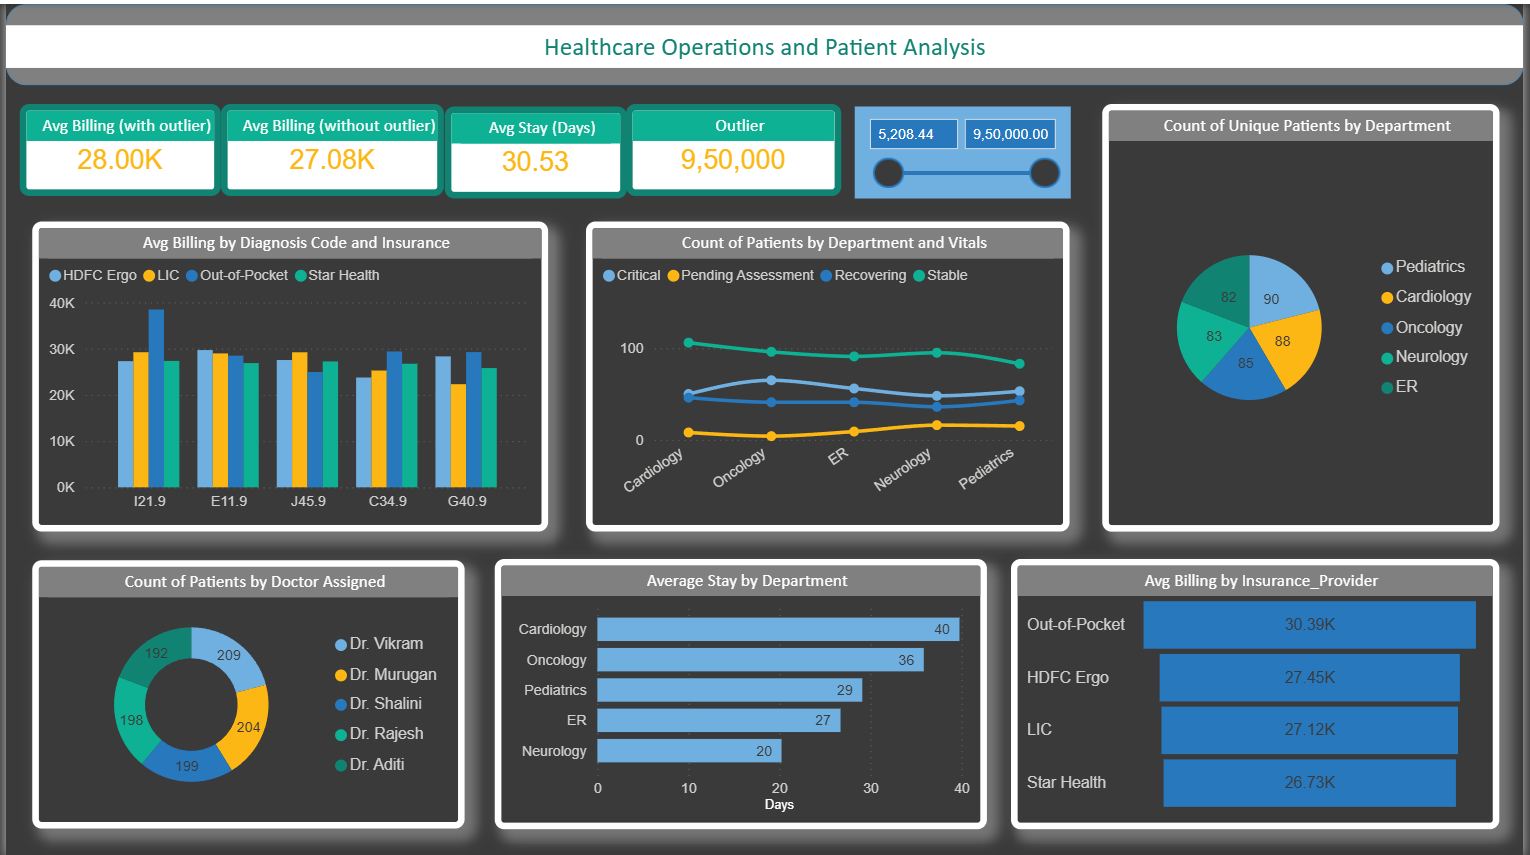

The dashboard page shown, as its layout file describes it:
{"tool":"powerbi","page":{"name":"Page 1","canvas":[1280,720],"ordinal":0},"visuals":[{"type":"clusteredColumnChart","title":"Avg Billing by Diagnosis Code and Insurance","fields":{"Category":["Cleaned Healthcare Analysis.Diagnosis_Code"],"Y":["Cleaned Healthcare Analysis.Avg Billing Amount"],"Series":["Cleaned Healthcare Analysis.Insurance_Provider"]},"box":[22.1,183.7,434.9,261.6],"z":0},{"type":"funnel","title":"Avg Billing by Insurance_Provider","fields":{"Category":["Cleaned Healthcare Analysis.Insurance_Provider"],"Y":["Cleaned Healthcare Analysis.Avg Billing Amount"]},"box":[847.7,468.6,411.6,227.9],"z":1000},{"type":"clusteredBarChart","title":"Average Stay by Department","fields":{"Category":["Cleaned Healthcare Analysis.Department"],"Y":["Cleaned Healthcare Analysis.Avg Stay"]},"box":[412.8,468.6,415.1,227.9],"z":2000},{"type":"lineChart","title":"Count of Patients by Department and Vitals","fields":{"Category":["Cleaned Healthcare Analysis.Department"],"Y":["CountNonNull(Cleaned Healthcare Analysis.Patient_Id)"],"Series":["Cleaned Healthcare Analysis.Vitals_Status"]},"box":[489.5,183.7,408.1,261.6],"z":3000},{"type":"pieChart","title":"Count of Unique Patients by Department","fields":{"Category":["Cleaned Healthcare Analysis.Department"],"Y":["Count(Cleaned Healthcare Analysis.Patient_Id)"]},"box":[924.4,84.9,334.9,360.5],"z":4000},{"type":"donutChart","title":"Count of Patients by Doctor Assigned","fields":{"Category":["Cleaned Healthcare Analysis.Doctor_Assigned"],"Y":["CountNonNull(Cleaned Healthcare Analysis.Patient_Id)"]},"box":[22.1,469.8,365.1,226.7],"z":5000},{"type":"shape","title":"Heal","box":[0,0,1280.2,68.6],"z":6000},{"type":"textbox","box":[0,17.4,1280.2,36],"z":7000},{"type":"card","title":"Avg Billing (with outlier)","fields":{"Values":["Cleaned Healthcare Analysis.Avg Billing Amount"]},"box":[11.6,84.9,169.8,77.9],"z":8000},{"type":"card","title":"Avg Stay (Days)","fields":{"Values":["Cleaned Healthcare Analysis.Avg Stay"]},"box":[369.8,86,153.5,77.9],"z":9000},{"type":"card","title":"Avg Billing (without outlier)","fields":{"Values":["Cleaned Healthcare Analysis.Avg Billing Amount"]},"box":[181.4,84.9,188.4,77.9],"z":10000},{"type":"slicer","fields":{"Values":["Cleaned Healthcare Analysis.Billing_Amount"]},"box":[716.3,86,181.4,76.7],"z":11000},{"type":"card","title":"Outlier","fields":{"Values":["Max(Cleaned Healthcare Analysis.Billing_Amount)"]},"box":[523.3,84.9,181.4,77.9],"z":12000}]}

Visuals, with their boxes in screenshot pixels (x1, y1, x2, y2), scaled from the page's 1280x720 canvas onto the 1530x855 screenshot:
"Avg Billing by Diagnosis Code and Insurance" clusteredColumnChart: region(26, 218, 546, 529)
"Avg Billing by Insurance_Provider" funnel: region(1013, 556, 1505, 827)
"Average Stay by Department" clusteredBarChart: region(493, 556, 990, 827)
"Count of Patients by Department and Vitals" lineChart: region(585, 218, 1073, 529)
"Count of Unique Patients by Department" pieChart: region(1105, 101, 1505, 529)
"Count of Patients by Doctor Assigned" donutChart: region(26, 558, 463, 827)
"Heal" shape: region(0, 0, 1529, 81)
textbox: region(0, 21, 1529, 63)
"Avg Billing (with outlier)" card: region(14, 101, 217, 193)
"Avg Stay (Days)" card: region(442, 102, 626, 195)
"Avg Billing (without outlier)" card: region(217, 101, 442, 193)
slicer - Cleaned Healthcare Analysis.Billing_Amount: region(856, 102, 1073, 193)
"Outlier" card: region(626, 101, 842, 193)
